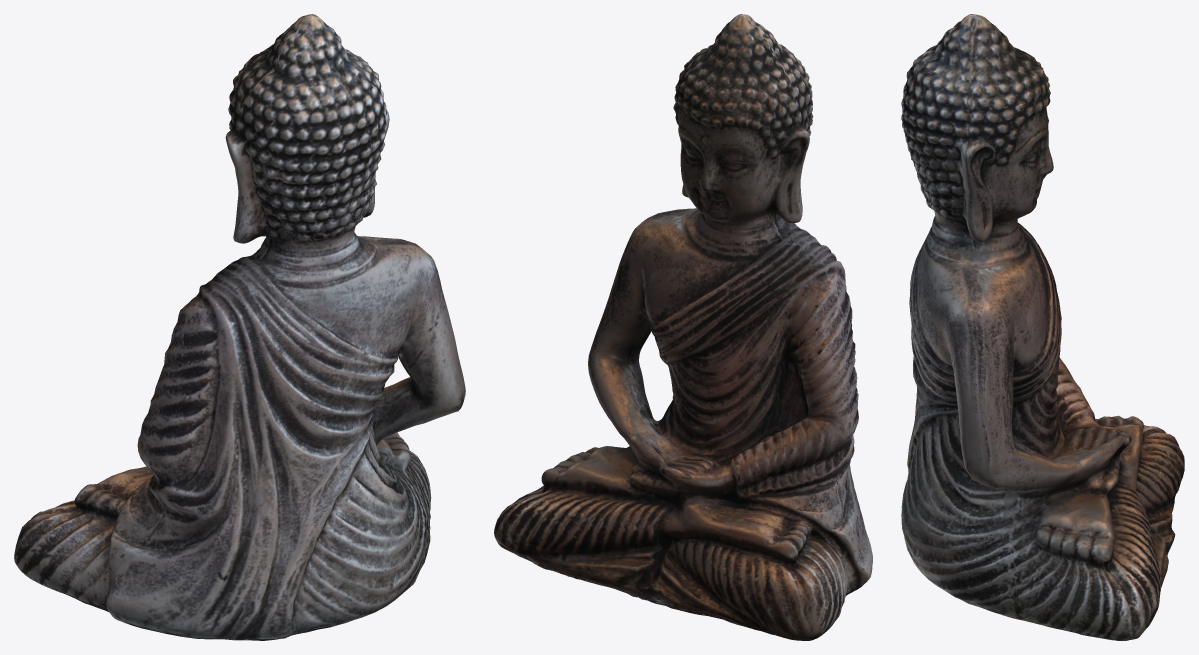
File: buddha.glb
The picture shows the model from 3 angles, left to right: view 1: azimuth 30°, elevation 25°; view 2: azimuth 150°, elevation 25°; view 3: azimuth 270°, elevation 25°; orthographic projection. The views are drawn at different scales.
Visible parts, largest first — view 1: LR_A1; view 2: LR_A1; view 3: LR_A1.
Boxes of the visible parts, x1,y1,x2,y2 form: LR_A1: [14, 14, 465, 640]; LR_A1: [494, 14, 872, 640]; LR_A1: [901, 14, 1184, 640].
Size of the model in its own units: 24.36 by 35.59 by 16.7.
1 material, 1 textured.
